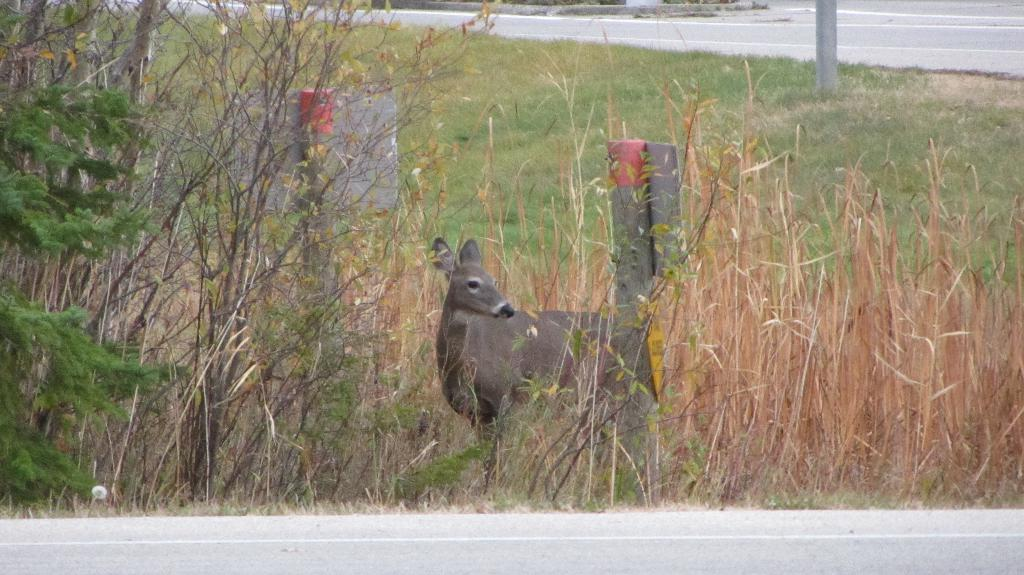Tree: (0, 0, 189, 507)
